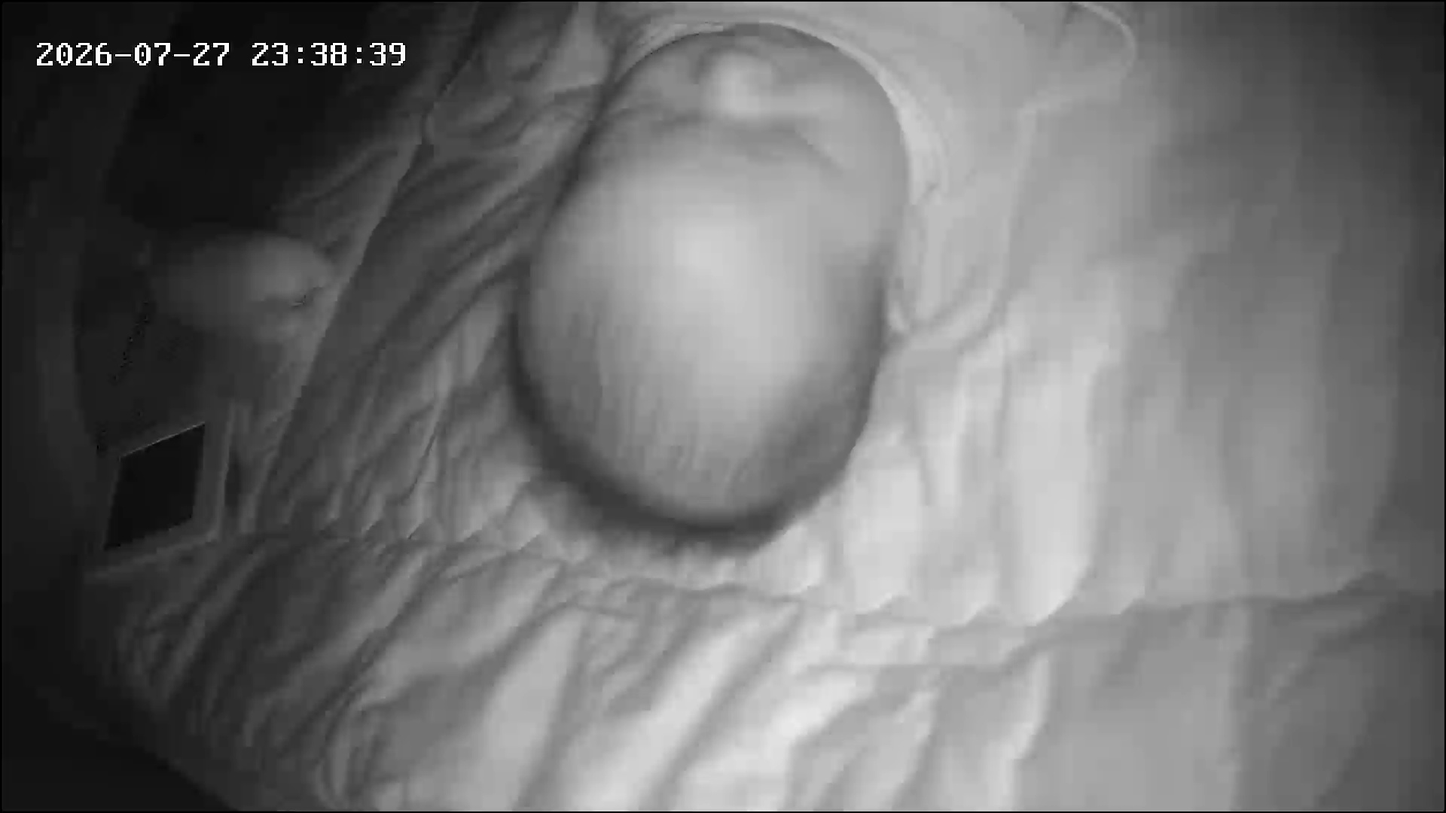baby: (146, 0, 920, 574)
baby_face: (497, 9, 921, 561)
